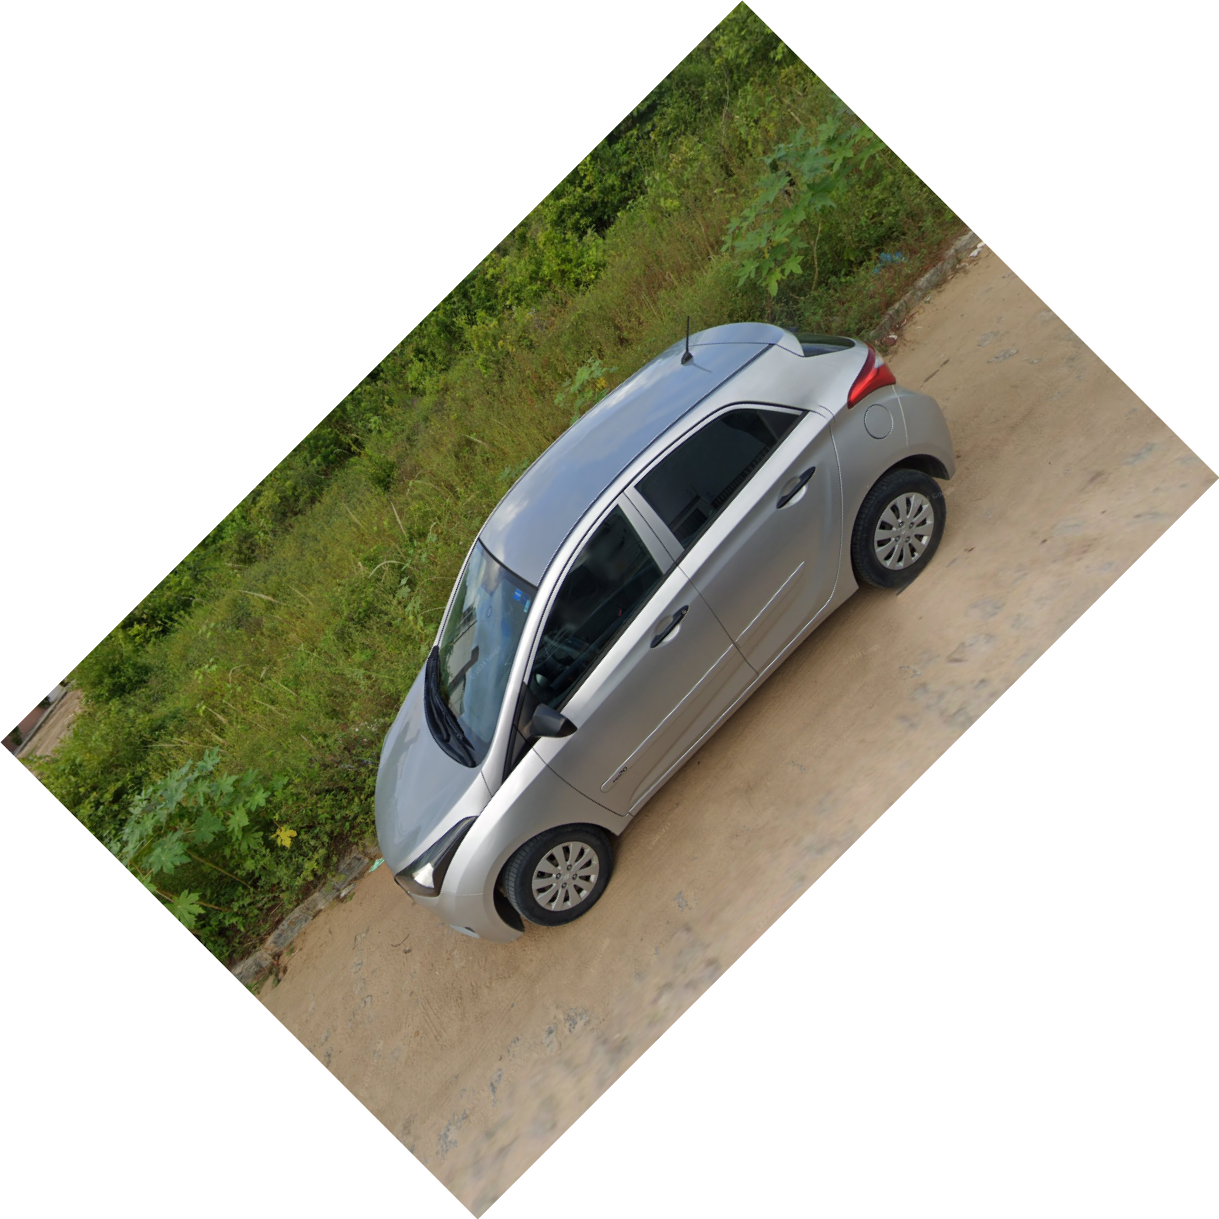car: (359, 306, 966, 954)
